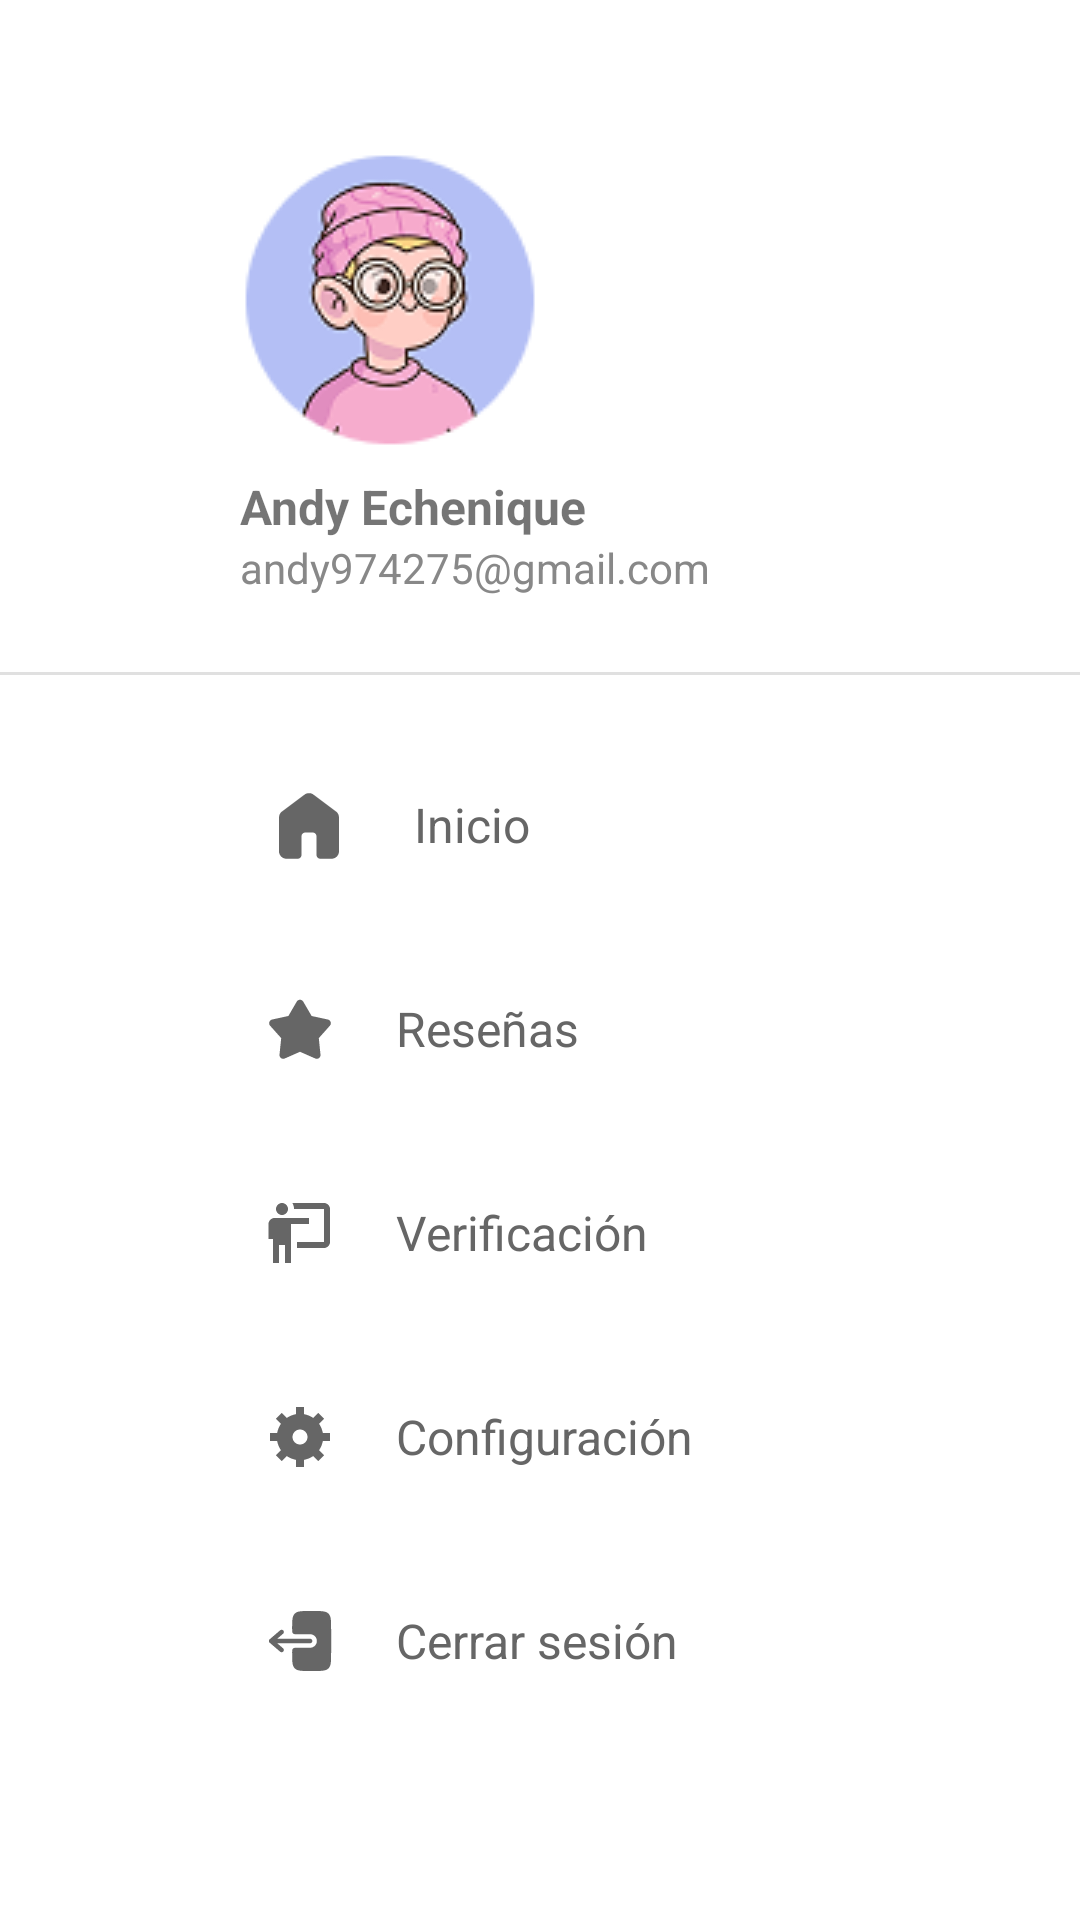

Point at icon controls on the screen. Image size 1080*1920, points as point (x, y).
iconhome: point (309, 826)
settings: point (300, 1437)
star: point (300, 1029)
